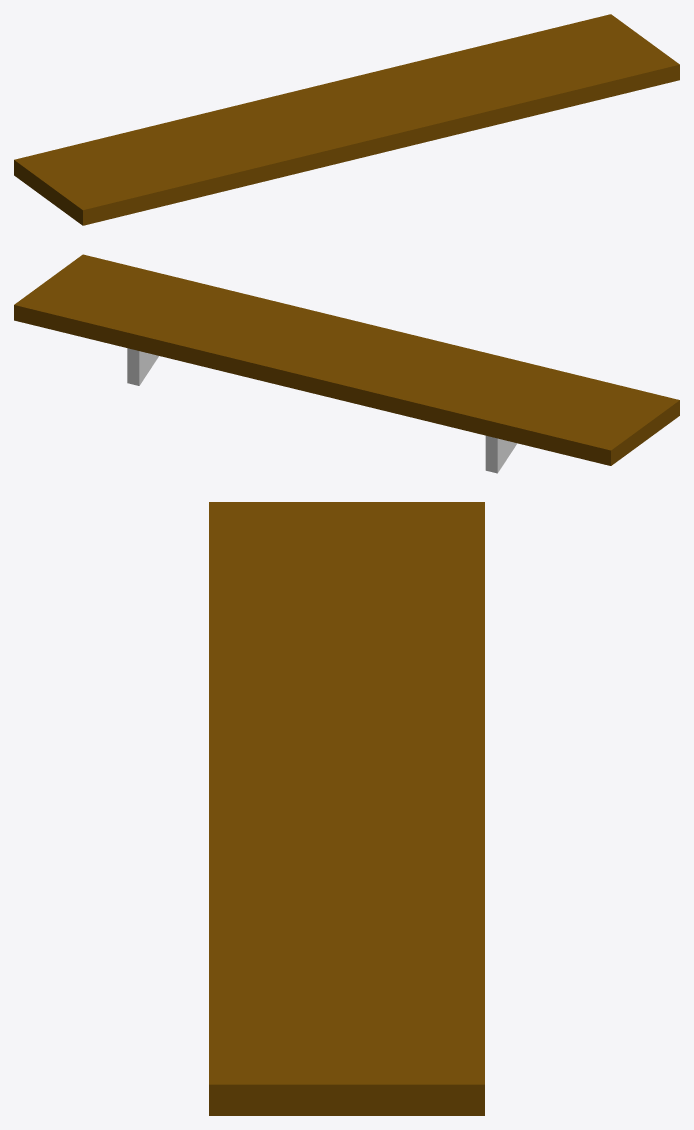
Rendered from WallPlank.fbx.
The picture shows the model from 3 angles, top to bottom: view 1: azimuth 30°, elevation 25°; view 2: azimuth 150°, elevation 25°; view 3: azimuth 270°, elevation 25°; orthographic projection. The views are drawn at different scales.
Parts seen in each view (by area): view 1: Plank; view 2: Plank, Stand, Stand1; view 3: Plank.
Boxes of the visible parts, x1,y1,x2,y2 form: Plank: (14, 14, 679, 225); Plank: (14, 254, 679, 465); Stand: (485, 435, 517, 473); Stand1: (127, 348, 158, 385); Plank: (209, 502, 484, 1115).
Size of the model in its own units: 10 by 0.8118 by 2.
